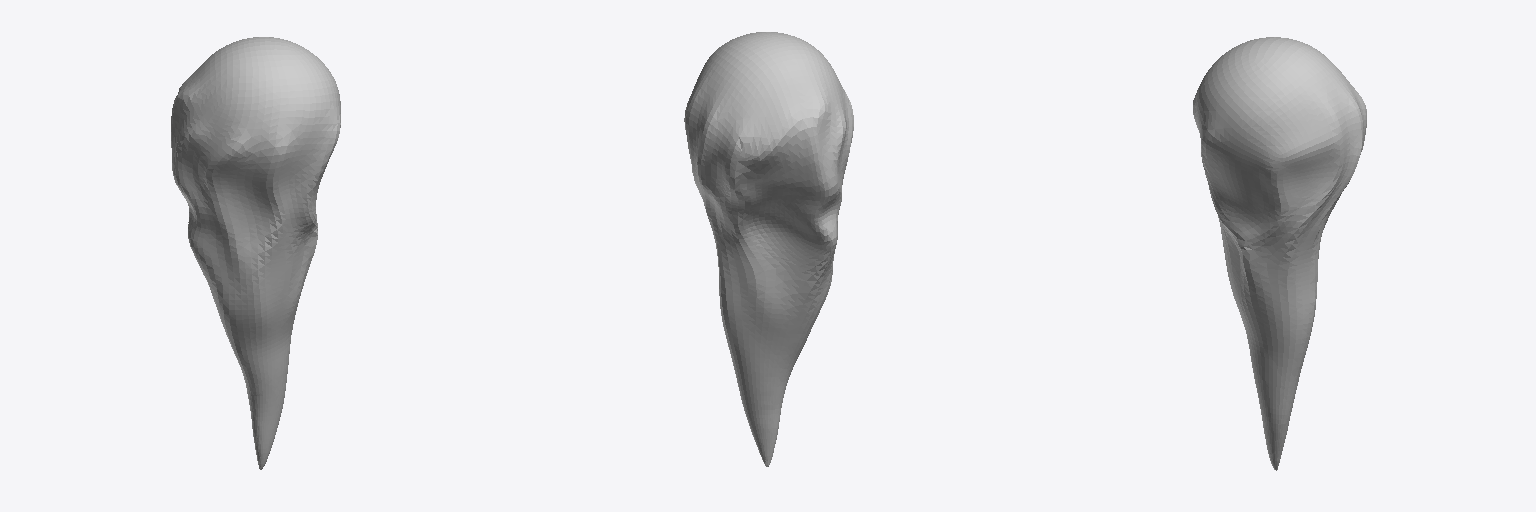
The model's file is stalagtite1.OBJ.
3 renders of one model, left to right at view 1: azimuth 30°, elevation 25°; view 2: azimuth 150°, elevation 25°; view 3: azimuth 270°, elevation 25°, orthographic.
Visible parts, largest first — view 1: Group1; view 2: Group1; view 3: Group1.
Part boxes in pixels (left/top/right/bottom): Group1: left=171, top=37, right=340, bottom=469; Group1: left=684, top=32, right=853, bottom=466; Group1: left=1193, top=37, right=1366, bottom=470.
Size of the model in its own units: 2.09 by 5.72 by 2.12.